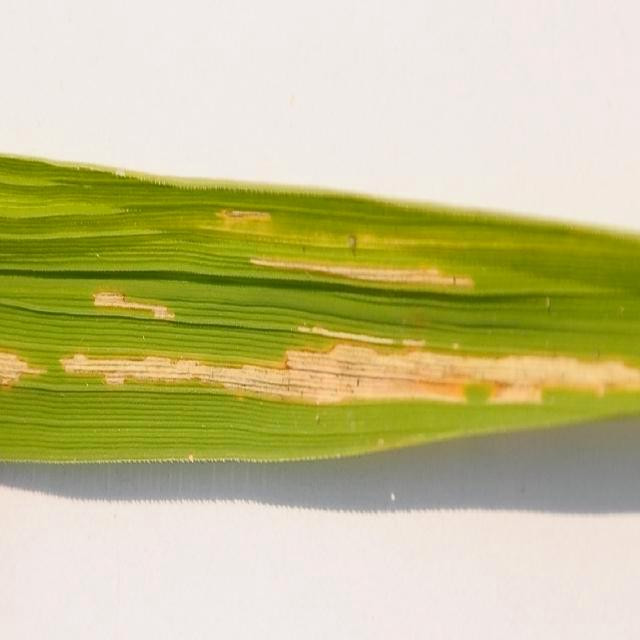bacterial_leaf_blight: (60, 342, 639, 404), (251, 259, 473, 286), (94, 292, 174, 318), (1, 351, 44, 385), (217, 209, 269, 220)
